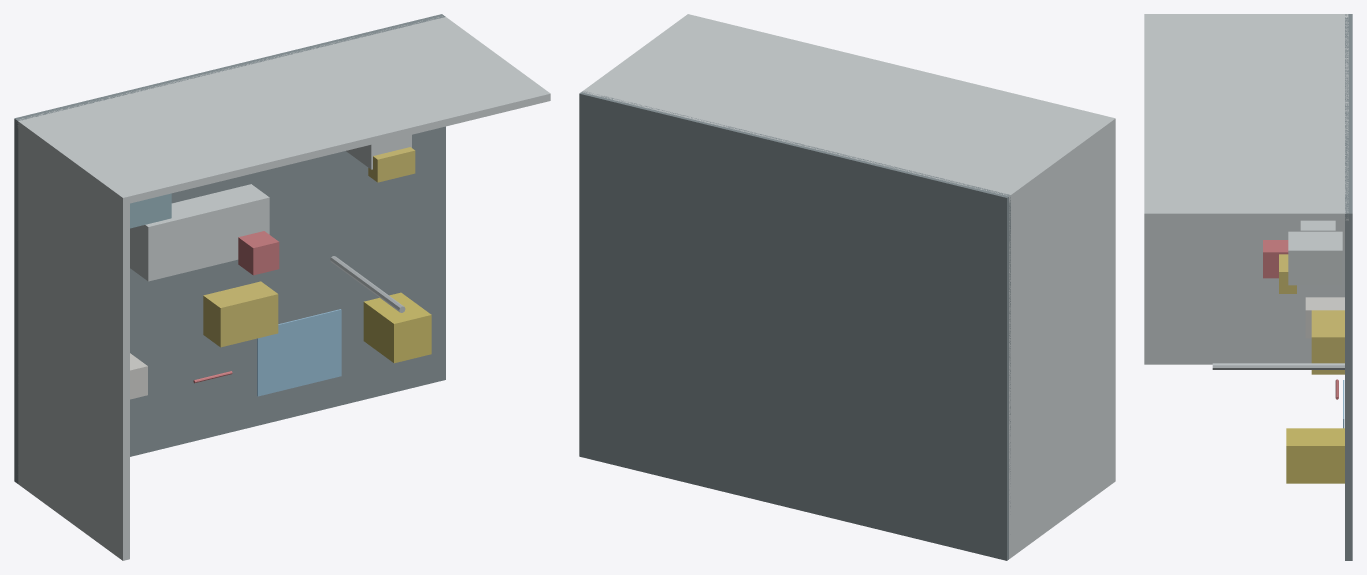
File: risk-room-low.glb
3 renders of one model, left to right at view 1: azimuth 30°, elevation 25°; view 2: azimuth 150°, elevation 25°; view 3: azimuth 270°, elevation 25°, orthographic. The views are drawn at different scales.
Visible parts, largest first — view 1: floor, wall_back, wall_left, bed, risk_wet_floor, risk_blocked_path, sharps_bin, risk_unsecured_item, risk_sink_obstruction, cabinet, handwash_sink, iv_stand (+1 smaller); view 2: floor, wall_back, wall_left; view 3: wall_back, wall_left, floor, sharps_bin, handwash_sink, risk_blocked_path, iv_stand, risk_unsecured_item, risk_unlabeled_container, risk_sink_obstruction, bed.
Part boxes in pixels (box(x1,y1,x2,y2)): floor: box(14, 14, 445, 483); wall_back: box(16, 16, 550, 204); wall_left: box(18, 118, 129, 560); bed: box(130, 184, 269, 281); risk_wet_floor: box(257, 309, 341, 396); risk_blocked_path: box(203, 281, 278, 347); sharps_bin: box(363, 292, 431, 363); risk_unsecured_item: box(238, 231, 279, 275); risk_sink_obstruction: box(368, 147, 415, 182); cabinet: box(130, 193, 171, 228); handwash_sink: box(346, 135, 411, 169); iv_stand: box(330, 256, 405, 312); floor: box(579, 91, 1010, 560); wall_back: box(581, 14, 1115, 202); wall_left: box(1009, 118, 1115, 558); wall_back: box(1144, 14, 1348, 220); wall_left: box(1144, 14, 1348, 364); floor: box(1345, 14, 1352, 560); sharps_bin: box(1286, 428, 1344, 483); handwash_sink: box(1288, 231, 1342, 285); risk_blocked_path: box(1311, 310, 1344, 374); iv_stand: box(1212, 363, 1344, 369); risk_unsecured_item: box(1263, 240, 1288, 278); risk_unlabeled_container: box(1305, 297, 1344, 338); risk_sink_obstruction: box(1279, 254, 1296, 293); bed: box(1300, 220, 1335, 231).
Bounding box in the file's own units: 7.4 × 6 × 3.26.
